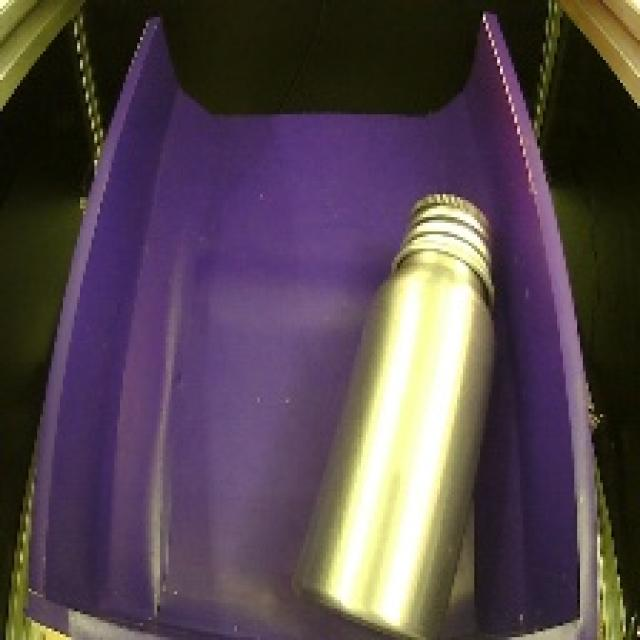metal: (280, 178, 525, 640)
